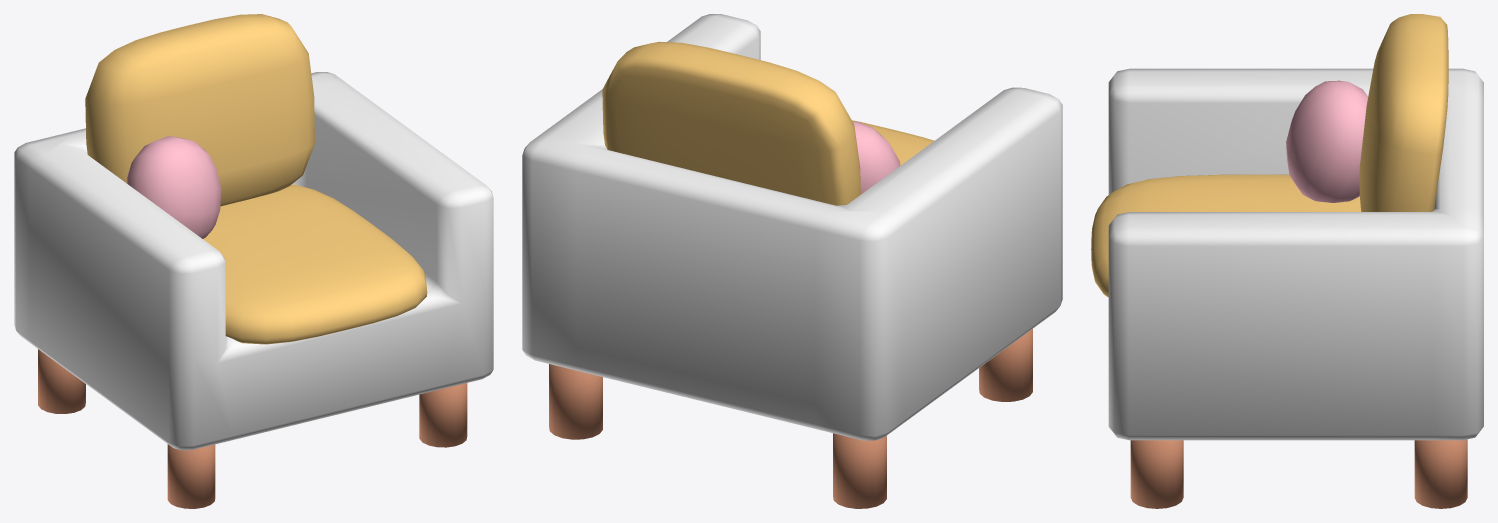
The model's file is Chair_PastelPop.glb.
The picture shows the model from 3 angles, left to right: view 1: azimuth 30°, elevation 25°; view 2: azimuth 150°, elevation 25°; view 3: azimuth 270°, elevation 25°; orthographic projection. The views are drawn at different scales.
Visible parts, largest first — view 1: Chair_PastelPop; view 2: Chair_PastelPop; view 3: Chair_PastelPop.
Boxes of the visible parts, bbox=[...] form: Chair_PastelPop: bbox=[14, 14, 493, 508]; Chair_PastelPop: bbox=[522, 14, 1062, 508]; Chair_PastelPop: bbox=[1091, 14, 1483, 508].
Size of the model in its own units: 0.3822 by 0.3962 by 0.3673.
Materials: 1 (1 with a texture image).
